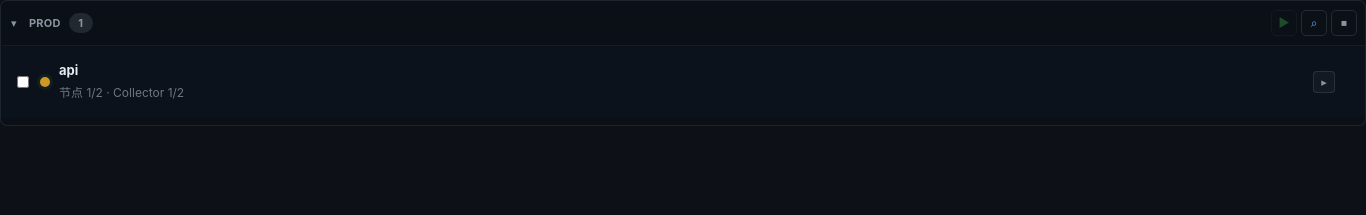
EnvGroup › 远端多节点 service 显示聚合状态并可展开节点叶子
expect the text with test id "service-meta" shows "节点 1/2": met, box [59, 85, 184, 100]
expect the text with test id "service-meta" shows "Collector 1/2": met, box [59, 85, 184, 100]
Click the button with test id "service-node-toggle" at (1324, 82), box [1313, 70, 1335, 92]
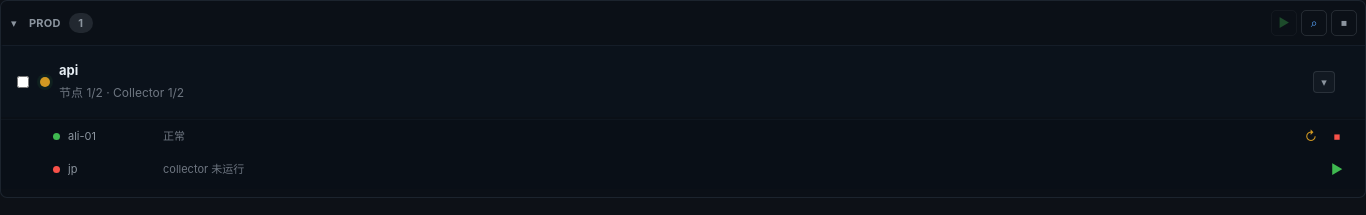
expect the number of buttons with test id "env-node-leaf-row" is 2: met, box [45, 120, 1357, 152]; [45, 153, 1357, 185]
expect the element with test id "env-node-leaf-list" shows "ali-01": met, box [68, 129, 96, 143]
expect the element with test id "env-node-leaf-list" shows "collector 未运行": met, box [163, 162, 244, 176]
